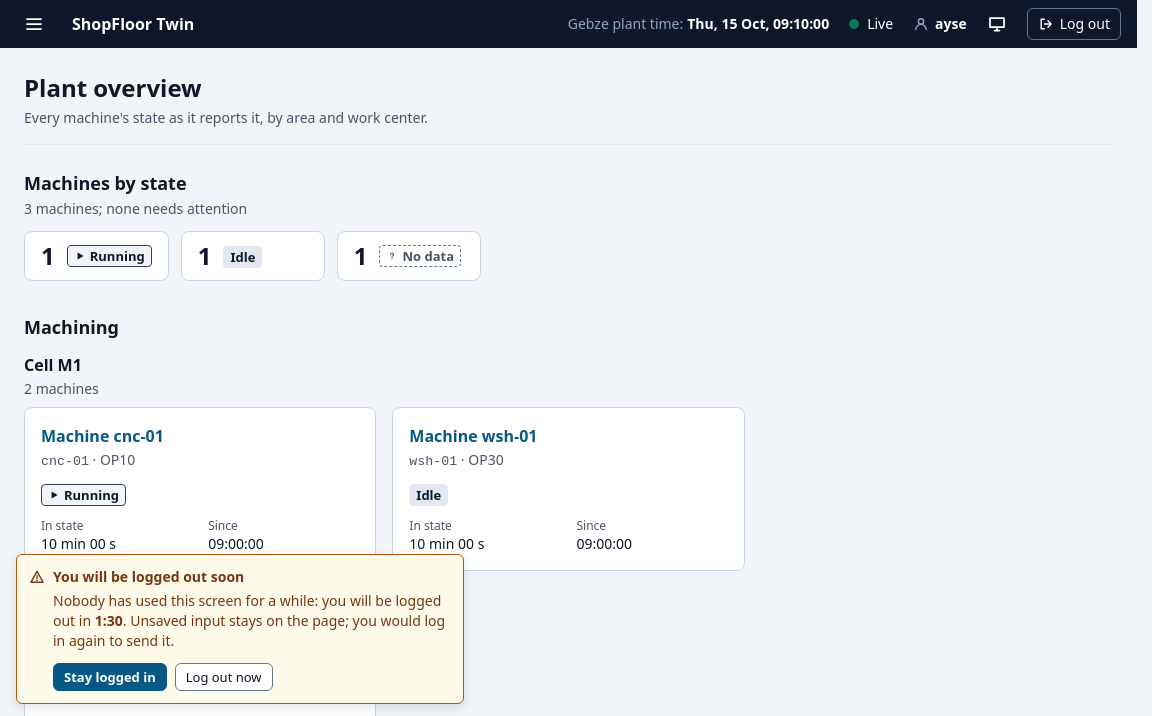
Test case: the idle timeout (#170 review M3, M4) › warns before the MES's own idle expiry, reads the session once, and stays on request
Click the button with test id "stay-signed-in" at (110, 677), box x1=53 y1=663 x2=167 y2=691
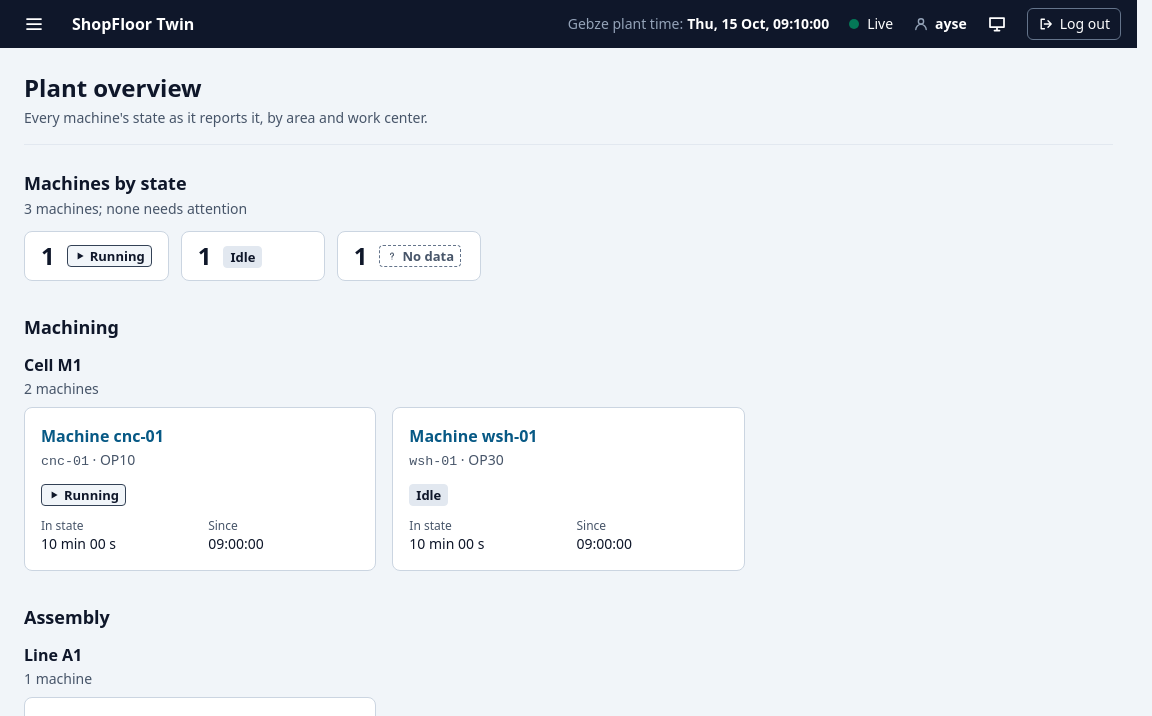
expect the message with test id "idle-warning" is gone: met
